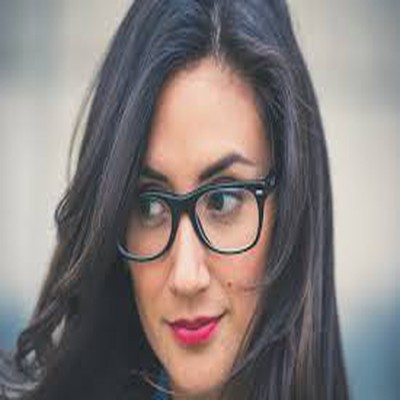eywear: (102, 136, 296, 270)
